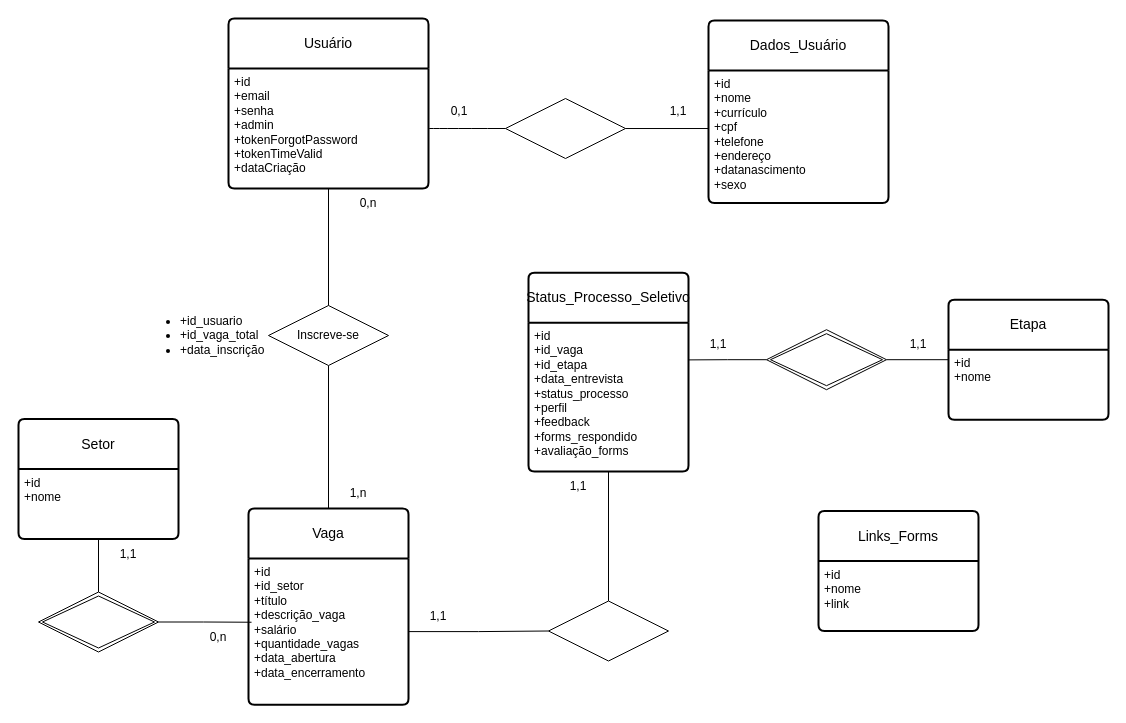
Image size: 1126x723. Some labels were removed from this diagram. The shapes that lost their labels are listed below. From the top down, each one's centre as x and y in pixels, then its label:
At (x=565, y=128): "Cadastra-se".
At (x=826, y=359): "Possui-se".
At (x=98, y=621): "Relaciona-se".
At (x=608, y=630): "Avalia-se".
